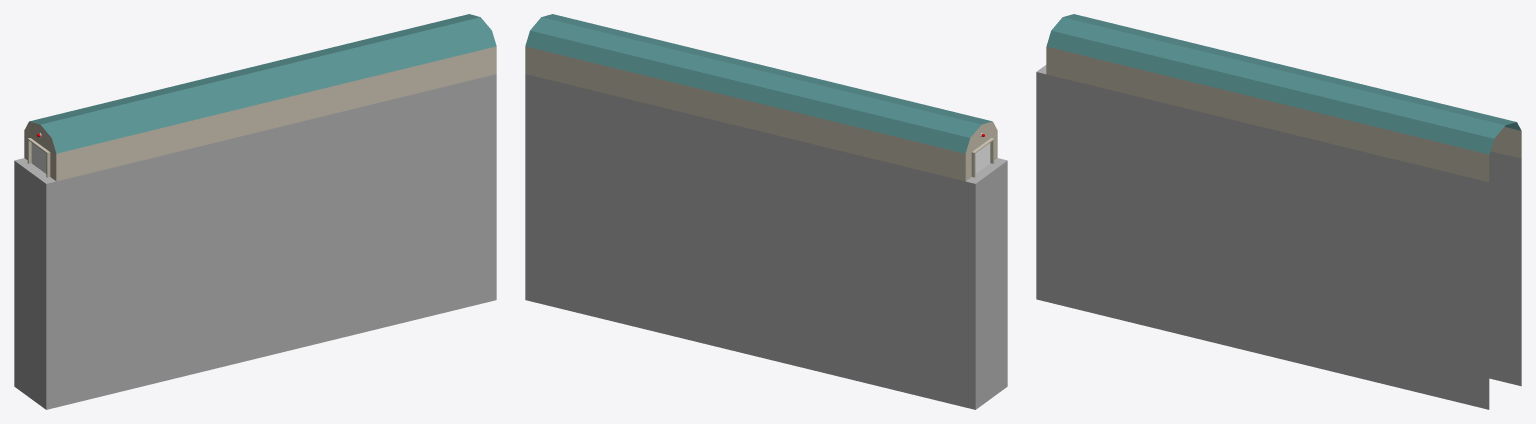
Rendered from EscapeTunnel.fbx.
3 views of the same model, side by side, from view 1: azimuth 30°, elevation 25°; view 2: azimuth 150°, elevation 25°; view 3: azimuth 330°, elevation 25° (orthographic).
Visible parts, largest first — view 1: EscapeTunnel; view 2: EscapeTunnel; view 3: EscapeTunnel.
Boxes of the visible parts, x1,y1,x2,y2 form: EscapeTunnel: [14, 14, 496, 409]; EscapeTunnel: [525, 14, 1007, 409]; EscapeTunnel: [1036, 14, 1521, 409].
Bounding box in the file's own units: 58.84 × 33.85 × 7.25.
